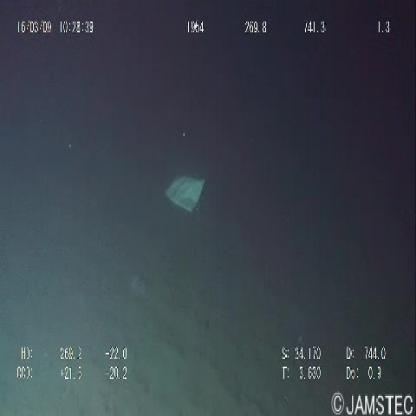Rác: (162, 166, 211, 225)
